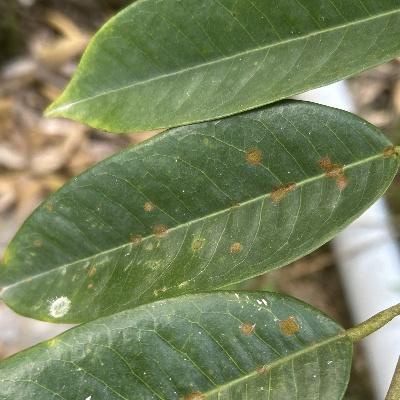Leaf_Algal: (44, 0, 400, 138)
